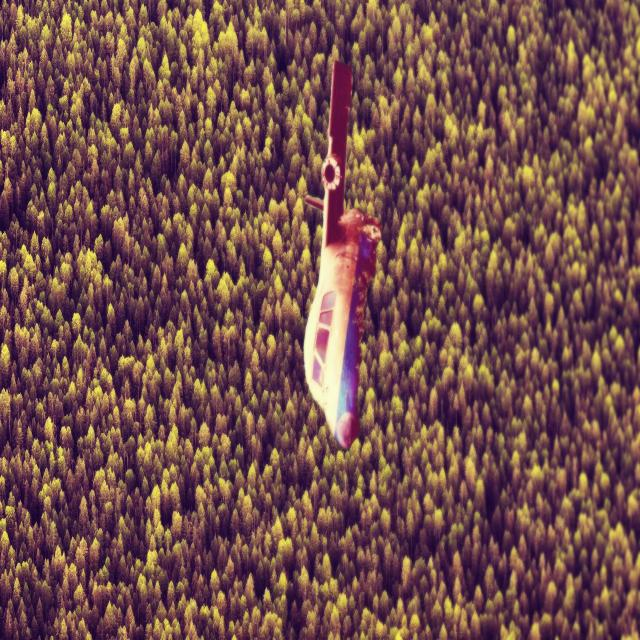airplane: (302, 60, 382, 450)
